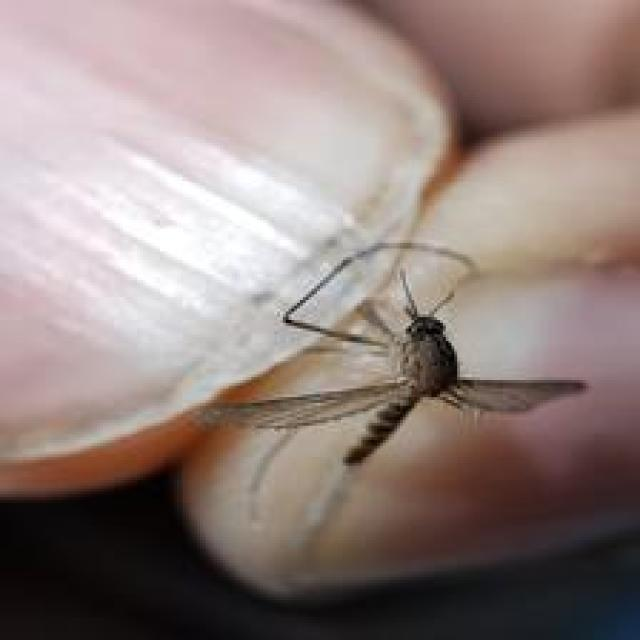Culex: (194, 239, 589, 550)
